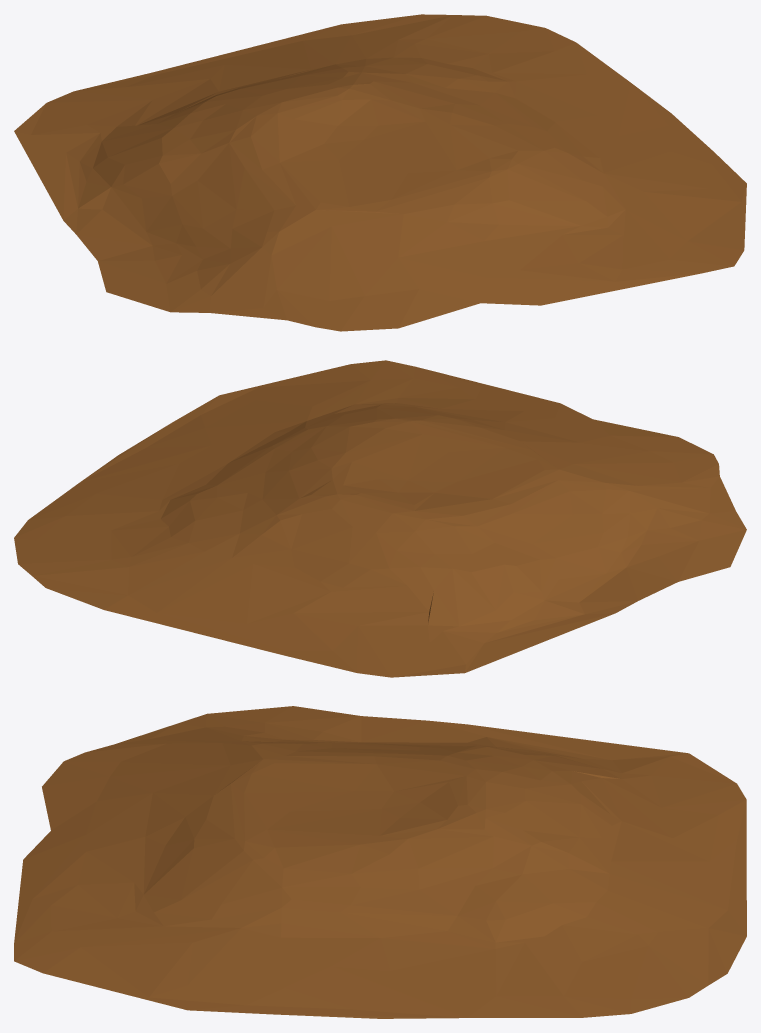
File: Terrain 02.FBX
3 renders of one model, top to bottom at view 1: azimuth 30°, elevation 25°; view 2: azimuth 150°, elevation 25°; view 3: azimuth 270°, elevation 25°, orthographic. The views are drawn at different scales.
Visible parts, largest first — view 1: plane; view 2: plane; view 3: plane.
Part boxes in pixels (x1,y1,x2,y2): plane: [14, 14, 746, 331]; plane: [14, 360, 746, 677]; plane: [14, 706, 746, 1018].
Size of the model in its own units: 114 by 10.76 by 112.
